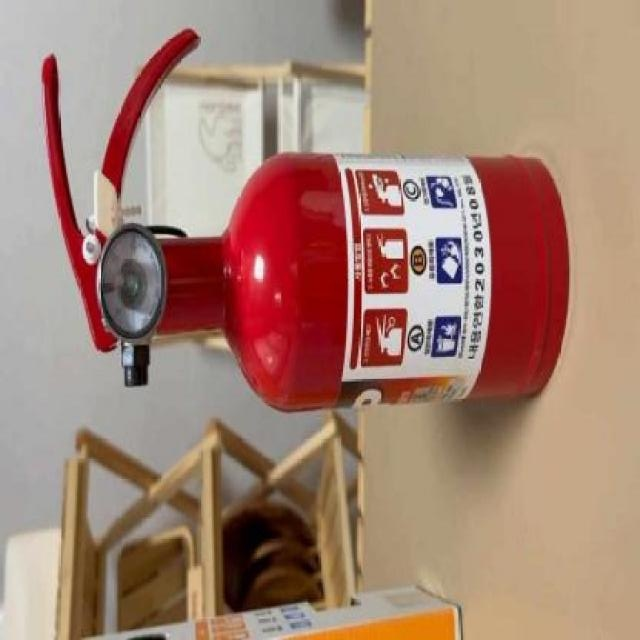fire extinguisher: (41, 26, 570, 414)
